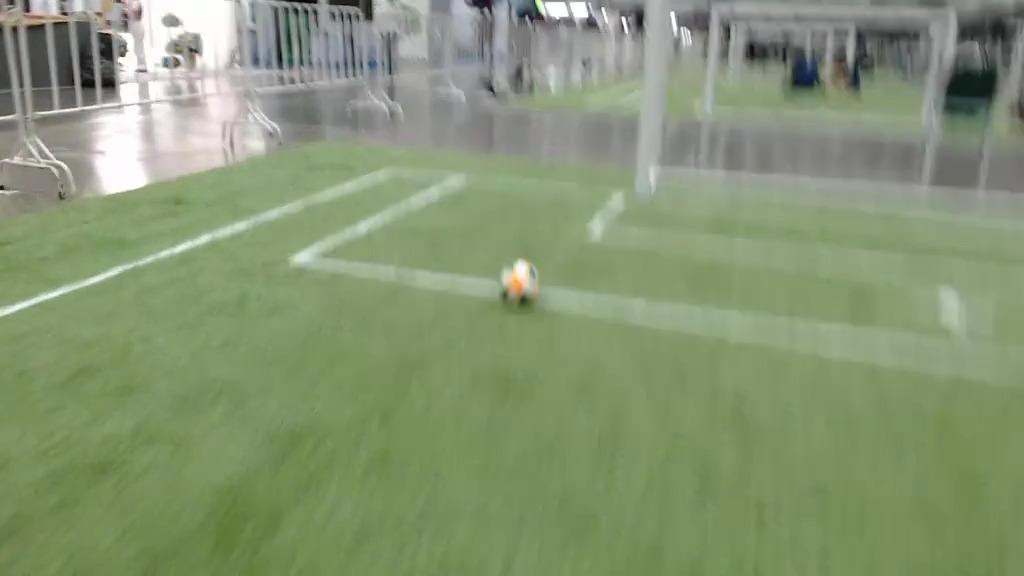ball: (502, 258, 537, 309)
